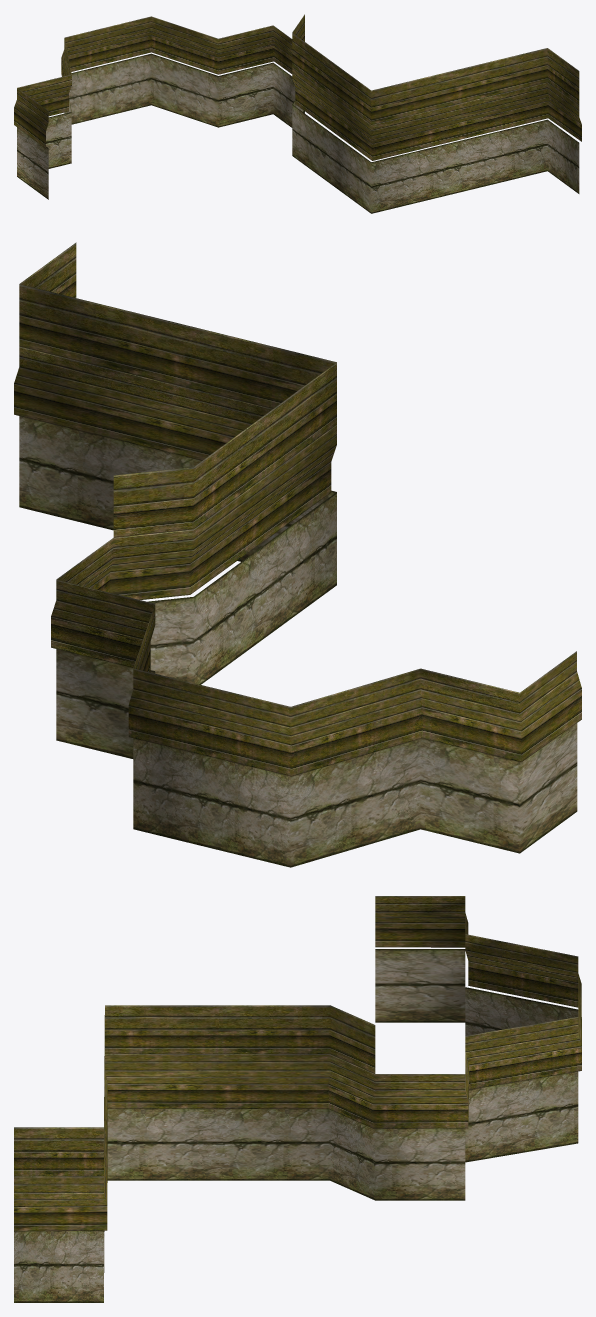
Rendered from OVERHILL_A_01_LINE395.fbx.
3 views of the same model, one above another, from view 1: azimuth 30°, elevation 25°; view 2: azimuth 150°, elevation 25°; view 3: azimuth 270°, elevation 25° (orthographic). The views are drawn at different scales.
Parts seen in each view (by area): view 1: OVERHILL_A_01_LINE395; view 2: OVERHILL_A_01_LINE395; view 3: OVERHILL_A_01_LINE395.
Part boxes in pixels (bbox=[...]): OVERHILL_A_01_LINE395: bbox=[14, 14, 581, 213]; OVERHILL_A_01_LINE395: bbox=[14, 242, 581, 867]; OVERHILL_A_01_LINE395: bbox=[14, 896, 581, 1302].
Size of the model in its own units: 149287 by 43000 by 126084.
3 materials, 3 textured.
